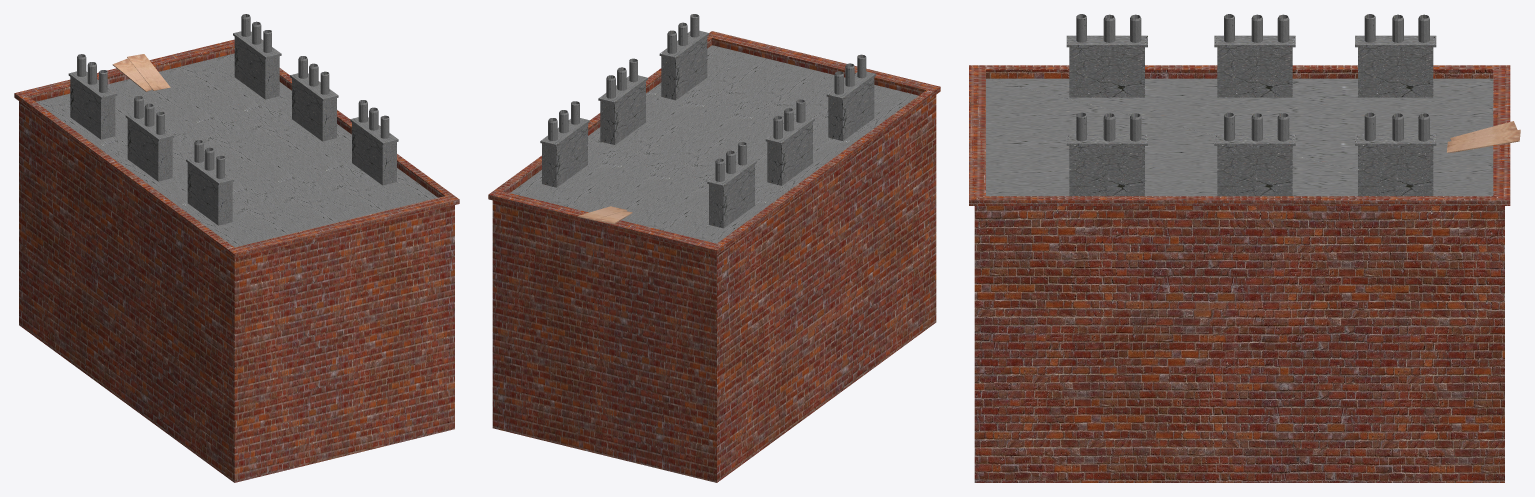
File: Box1WithTextures01.obj
3 renders of one model, left to right at view 1: azimuth 30°, elevation 25°; view 2: azimuth 150°, elevation 25°; view 3: azimuth 270°, elevation 25°, orthographic. The views are drawn at different scales.
Parts seen in each view (by area): view 1: Box_BrickWallMat, Box_HardFloorMat, Pipe_Cube.001, Pipe.002_Cube.003, Pipe.003_Cube.004, Pipe.001_Cube.002, Pipe.004_Cube.005, Pipe.005_Cube.006, ExitPlane.001_Wood.001, ExitPlane_Wood.001; view 2: Box_BrickWallMat, Box_HardFloorMat, Pipe_Cube.001, Pipe.005_Cube.006, Pipe.001_Cube.002, Pipe.002_Cube.003, Pipe.003_Cube.004, Pipe.004_Cube.005; view 3: Box_BrickWallMat, Box_HardFloorMat, Pipe.003_Cube.004, Pipe.002_Cube.003, Pipe.004_Cube.005, Pipe.005_Cube.006, Pipe.001_Cube.002, Pipe_Cube.001, ExitPlane.001_Wood.001.
Part boxes in pixels (x1,y1,x2,y2): Box_BrickWallMat: (14, 39, 459, 482); Box_HardFloorMat: (36, 53, 437, 247); Pipe_Cube.001: (186, 155, 234, 225); Pipe.002_Cube.003: (68, 70, 117, 139); Pipe.003_Cube.004: (233, 30, 281, 99); Pipe.001_Cube.002: (125, 112, 174, 181); Pipe.004_Cube.005: (290, 71, 338, 141); Pipe.005_Cube.006: (350, 115, 398, 185); ExitPlane.001_Wood.001: (127, 54, 170, 90); ExitPlane_Wood.001: (112, 58, 152, 91); Box_BrickWallMat: (488, 31, 940, 482); Box_HardFloorMat: (510, 45, 918, 243); Pipe_Cube.001: (826, 54, 875, 140); Pipe.005_Cube.006: (659, 14, 708, 100); Pipe.001_Cube.002: (765, 99, 814, 185); Pipe.002_Cube.003: (707, 142, 756, 228); Pipe.003_Cube.004: (540, 101, 589, 187); Pipe.004_Cube.005: (598, 58, 647, 144); Box_BrickWallMat: (969, 65, 1510, 482); Box_HardFloorMat: (986, 78, 1493, 196); Pipe.003_Cube.004: (1355, 112, 1436, 196); Pipe.002_Cube.003: (1355, 14, 1436, 97); Pipe.004_Cube.005: (1214, 112, 1295, 196); Pipe.005_Cube.006: (1066, 112, 1147, 196); Pipe.001_Cube.002: (1214, 14, 1295, 97); Pipe_Cube.001: (1066, 14, 1147, 97); ExitPlane.001_Wood.001: (1447, 129, 1520, 152).
Size of the model in its own units: 6.53 by 7.95 by 11.28.
